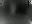person: (11, 5, 18, 17)
